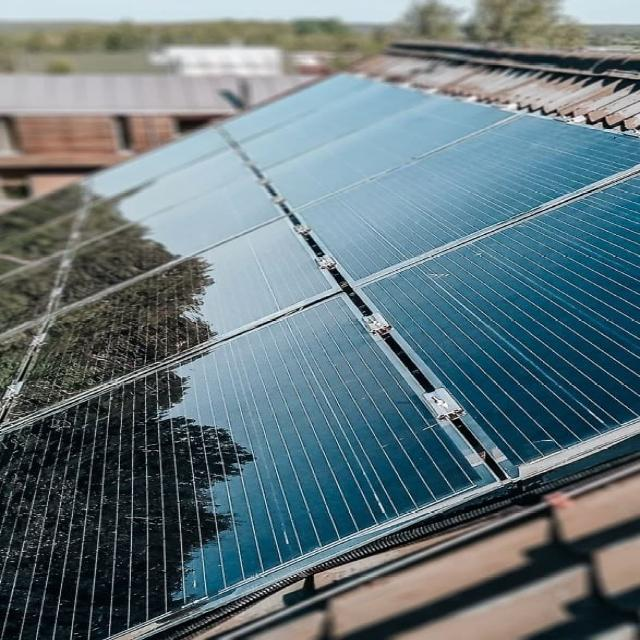clean-solar-panel: (2, 74, 639, 640)
